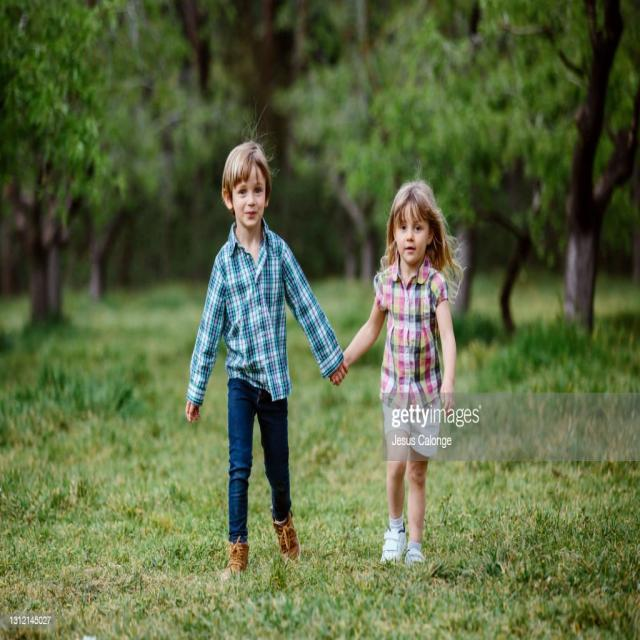Person: (188, 140, 344, 568), (346, 181, 456, 555)
